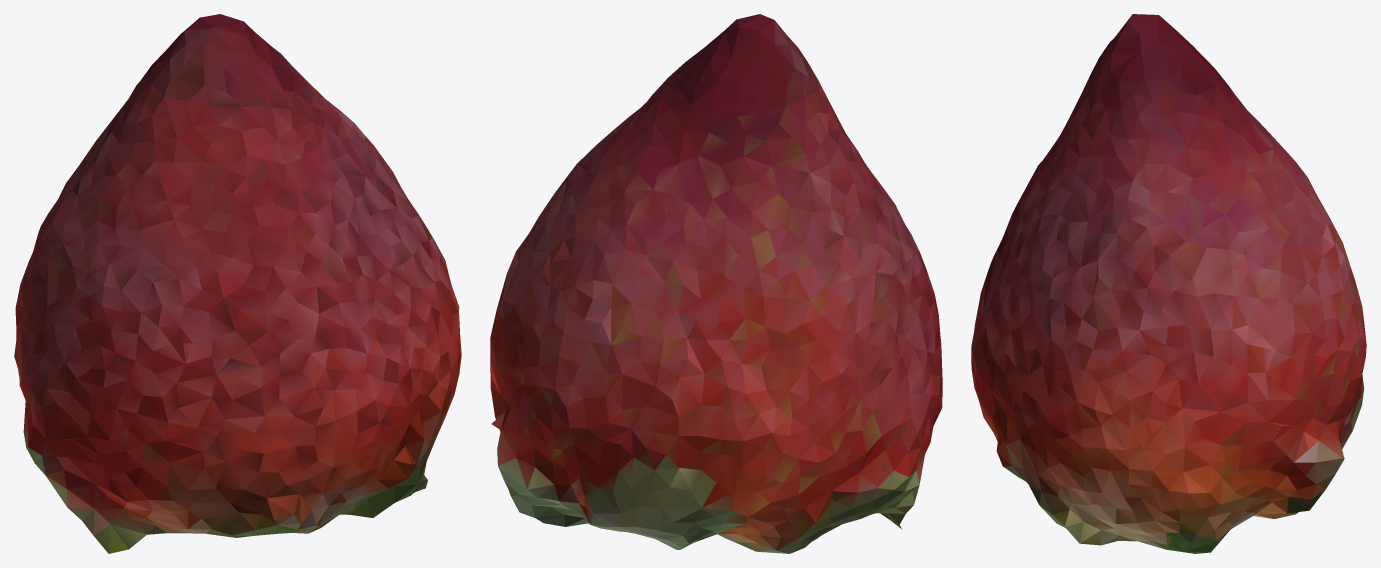
The picture shows the model from 3 angles, left to right: view 1: azimuth 30°, elevation 25°; view 2: azimuth 150°, elevation 25°; view 3: azimuth 270°, elevation 25°; orthographic projection. The views are drawn at different scales.
Visible parts, largest first — view 1: strawberry_06_visual; view 2: strawberry_06_visual; view 3: strawberry_06_visual.
Boxes of the visible parts, x1,y1,x2,y2 form: strawberry_06_visual: [14, 14, 461, 553]; strawberry_06_visual: [490, 14, 942, 553]; strawberry_06_visual: [971, 14, 1366, 553].
Size of the model in its own units: 0.9027 by 0.8384 by 1.11.
